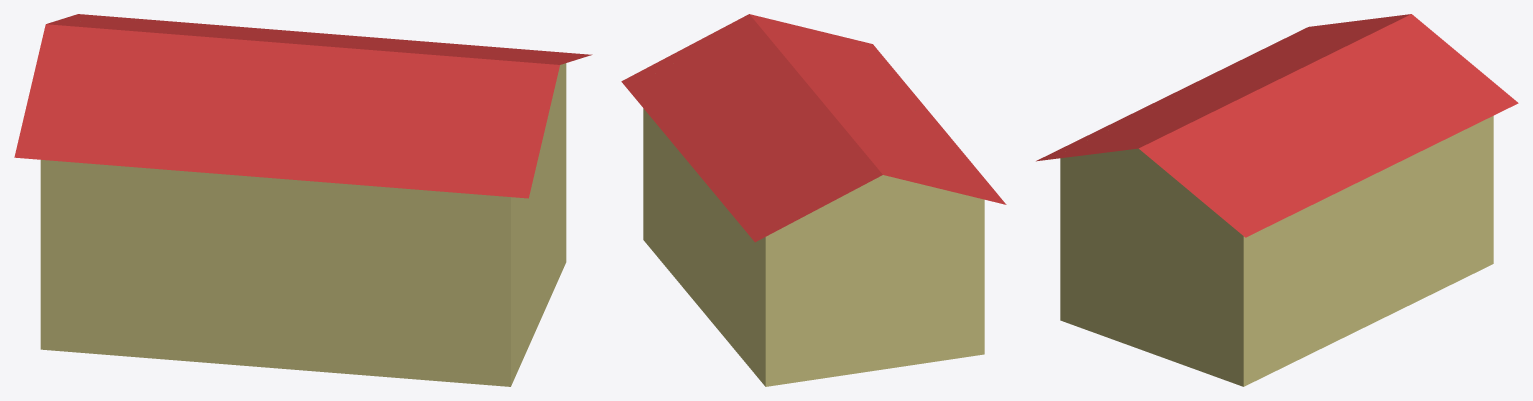
3 views of the same model, side by side, from view 1: azimuth 30°, elevation 25°; view 2: azimuth 150°, elevation 25°; view 3: azimuth 270°, elevation 25° (orthographic). The views are drawn at different scales.
Bounding box in the file's own units: 20.84 × 20.2 × 9.69.
